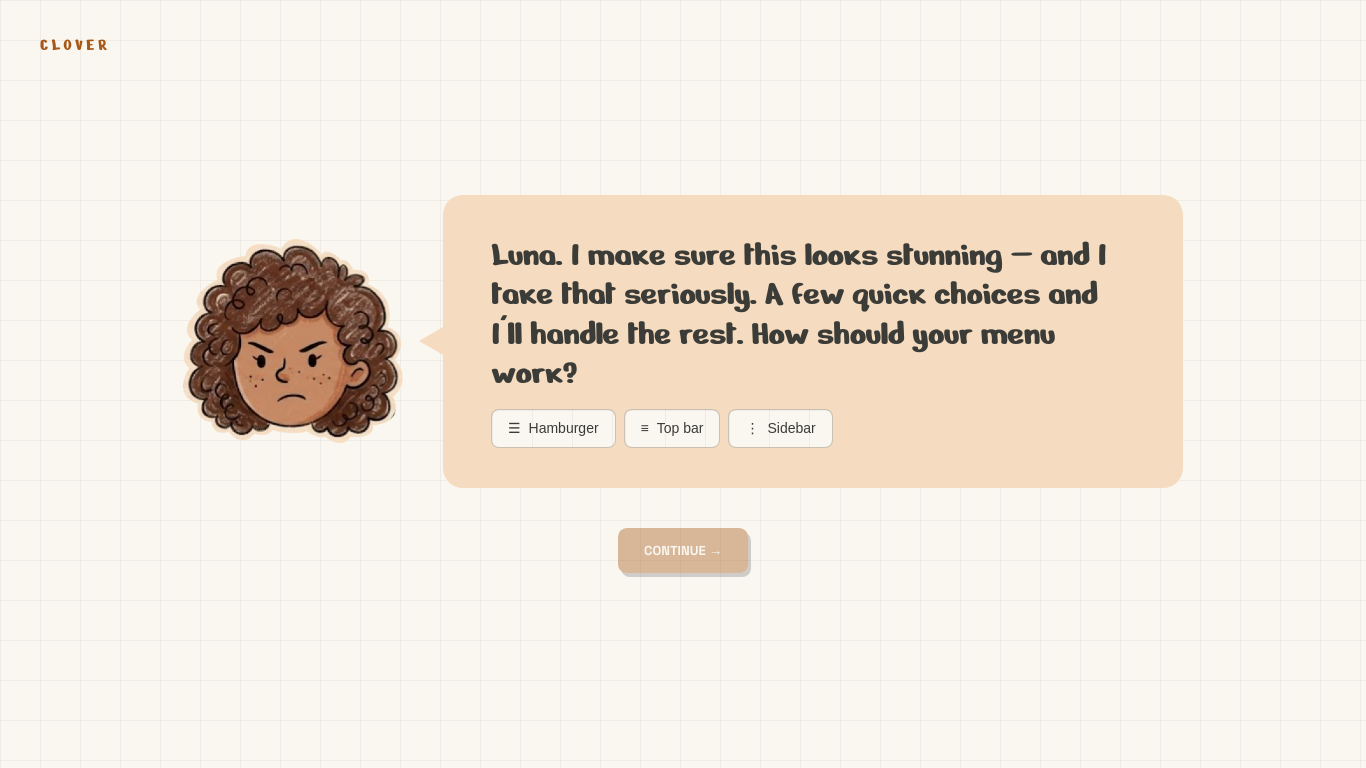
Test case: palette options appear after menu behavior selected
expect the text "Warm" is not shown: met
Step 1. Click the button "☰ Hamburger" → x=553, y=428, box [491,409,616,448]
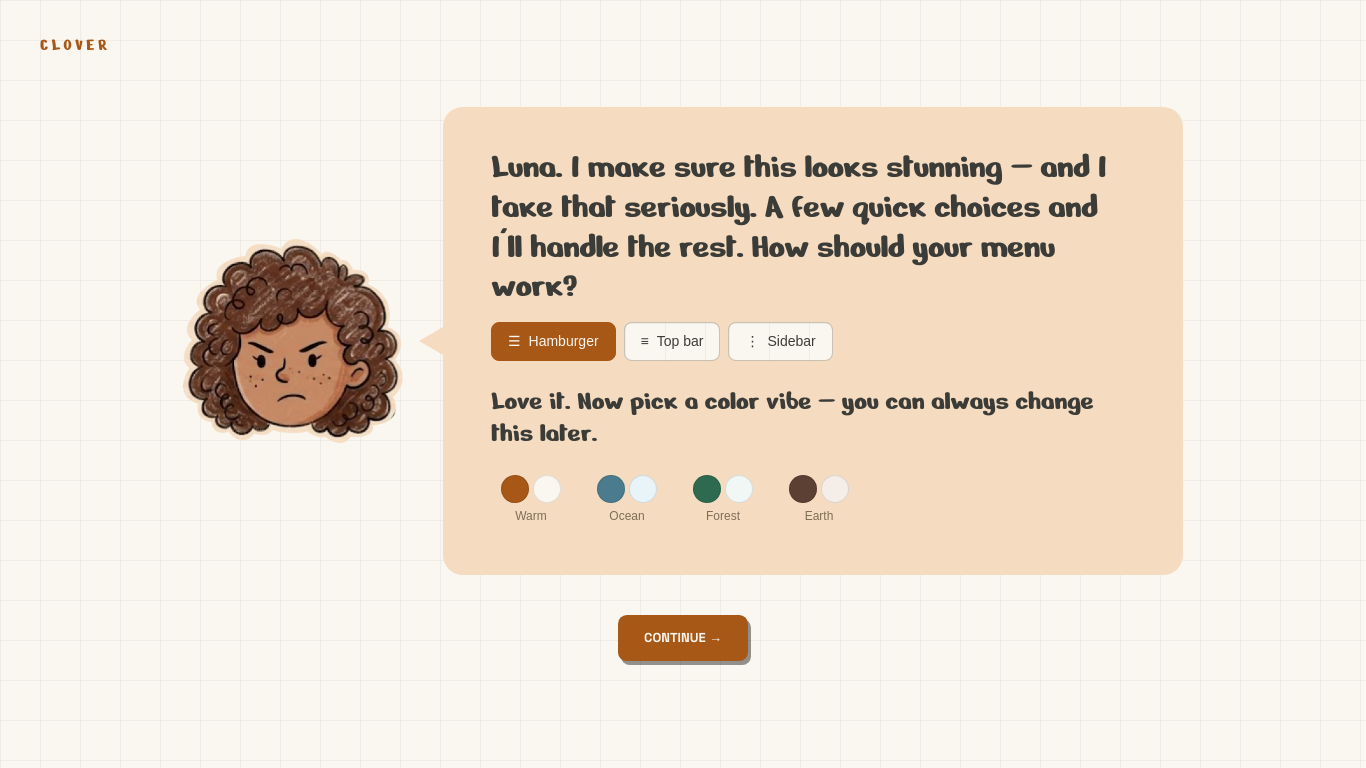
expect the text "Warm" is shown: met, box [515,507,547,525]
expect the text "Ocean" is shown: met, box [609,507,645,525]
